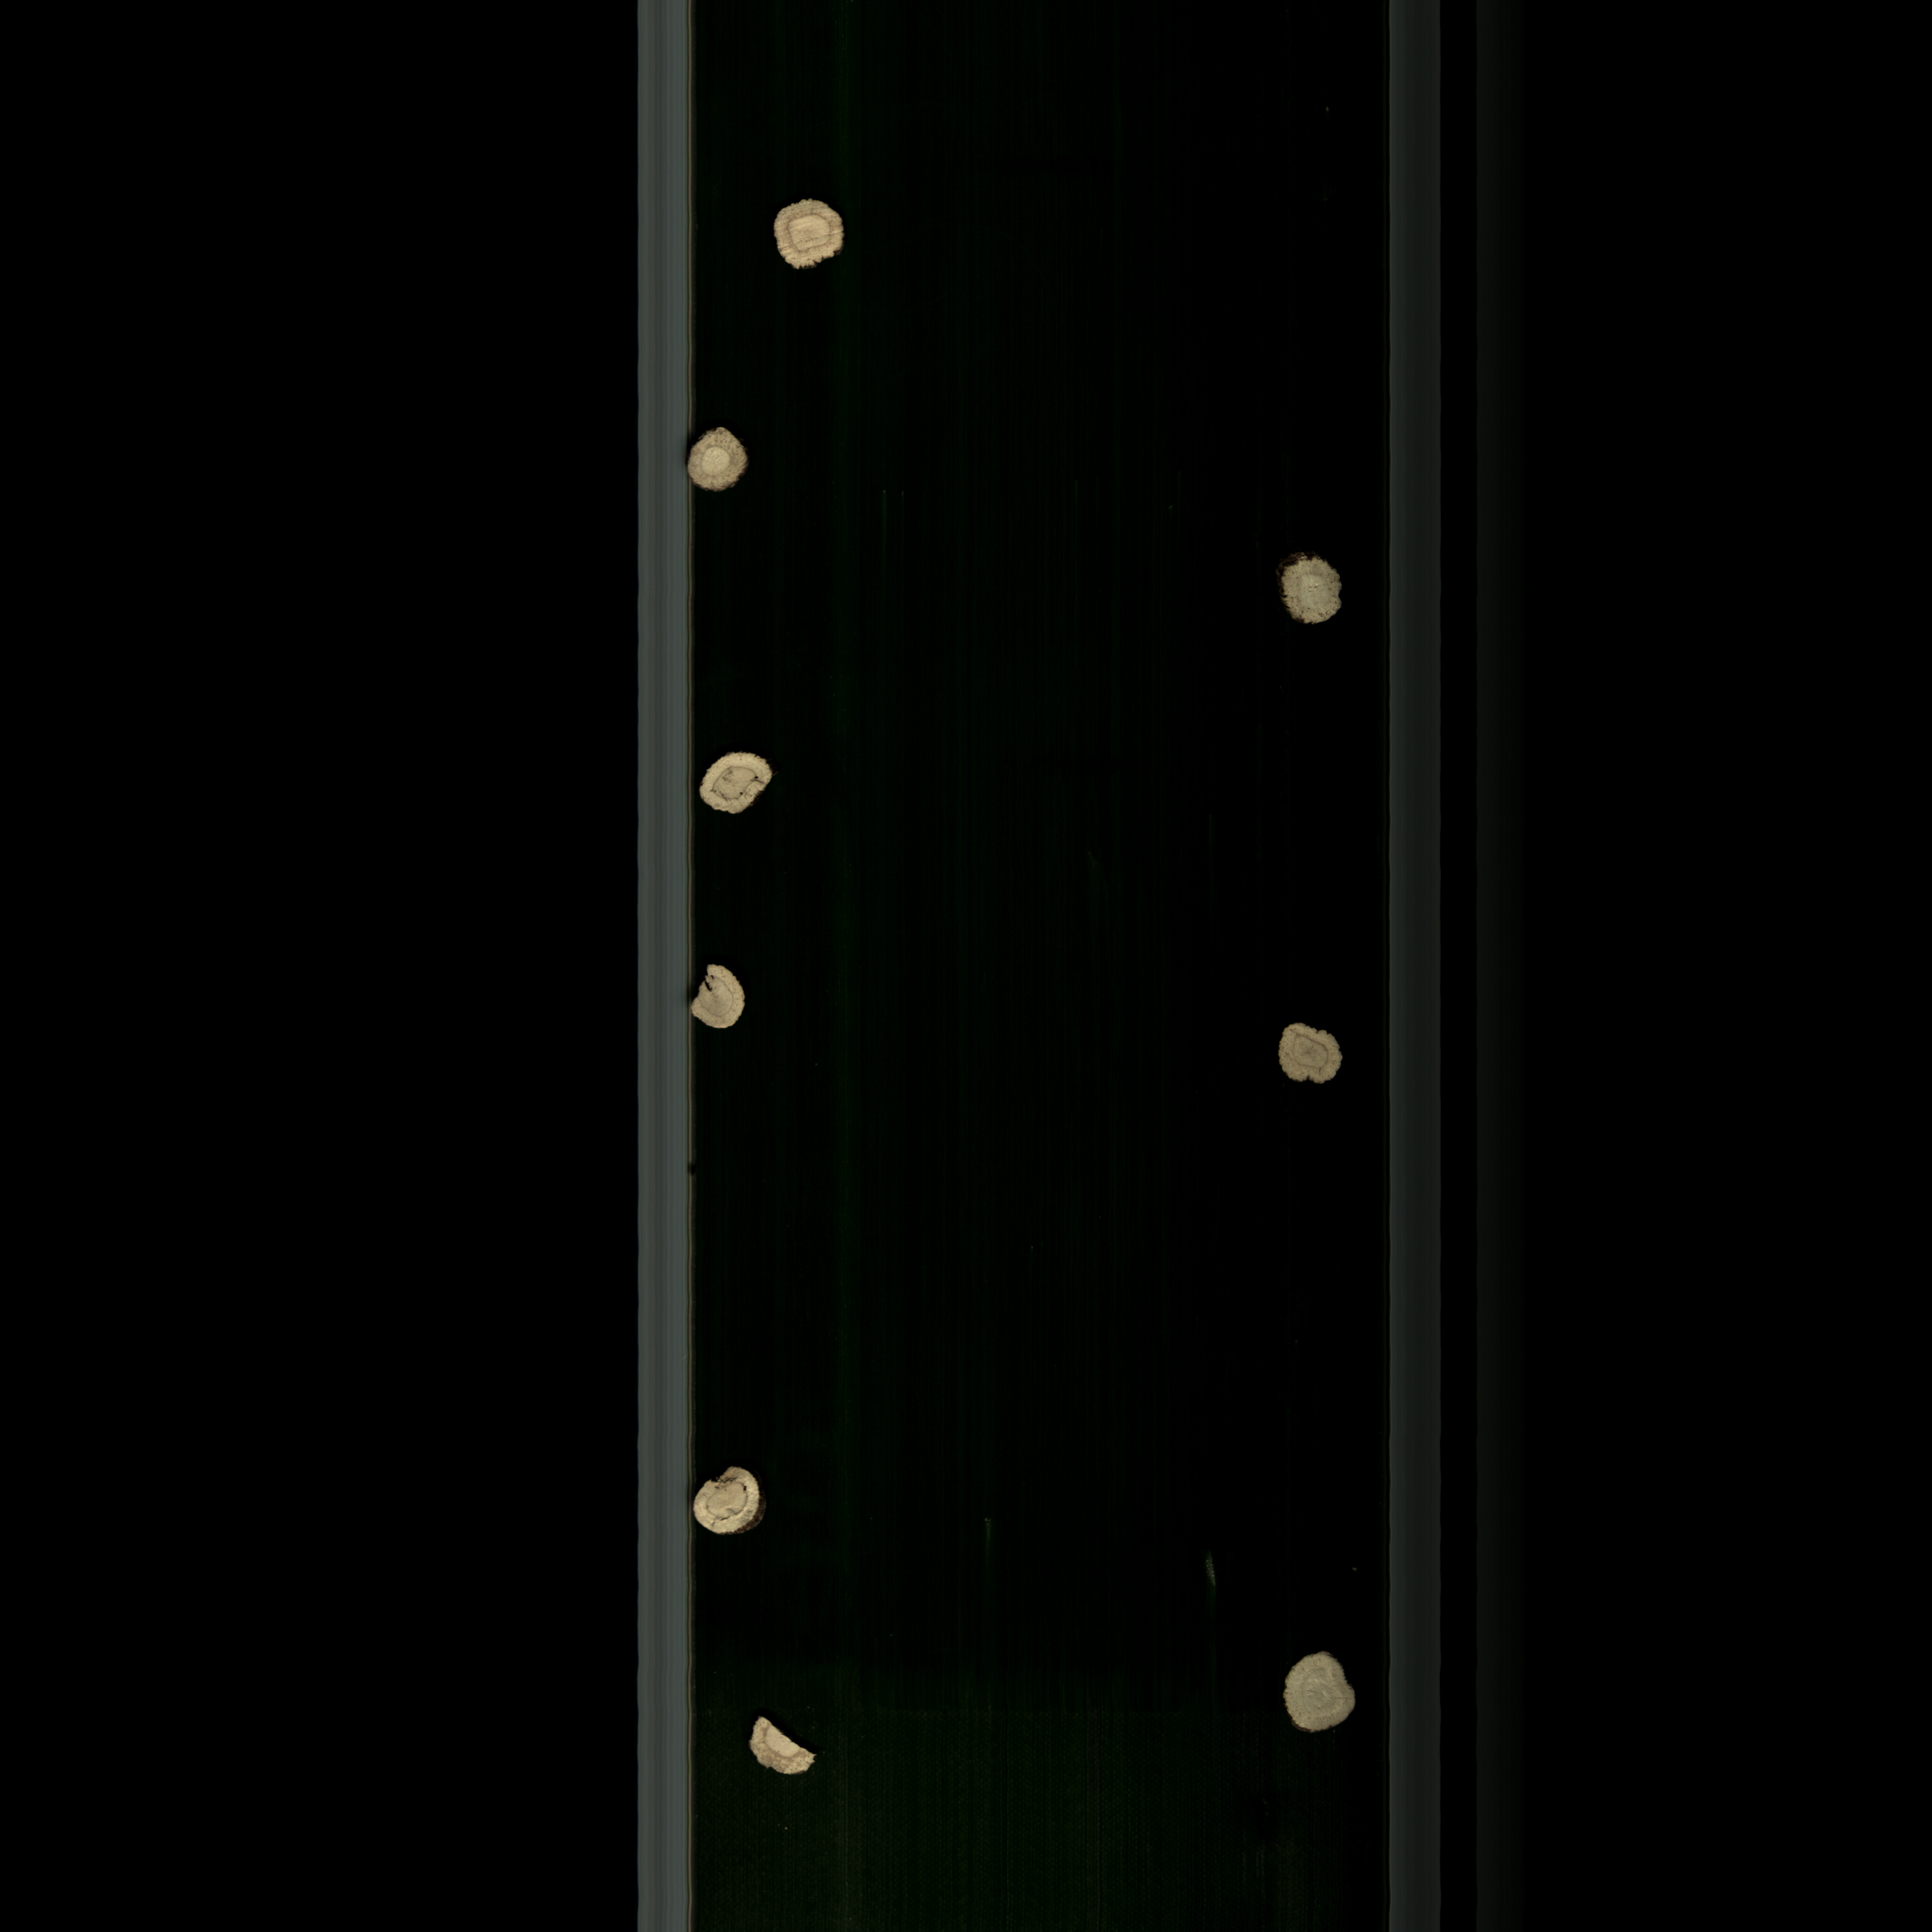debris: (738, 1706, 828, 1785), (686, 954, 752, 1047)
moldy: (754, 200, 851, 276), (681, 1461, 773, 1541), (1270, 1014, 1357, 1097), (699, 740, 787, 819), (683, 423, 752, 494)
